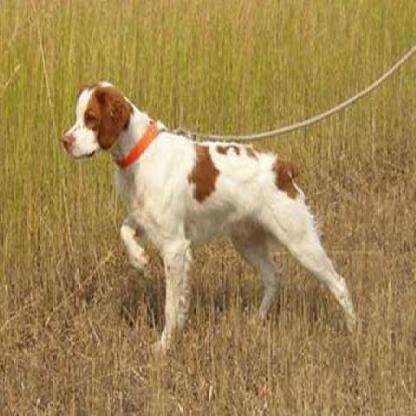Brittany_spaniel: (57, 76, 359, 358)
